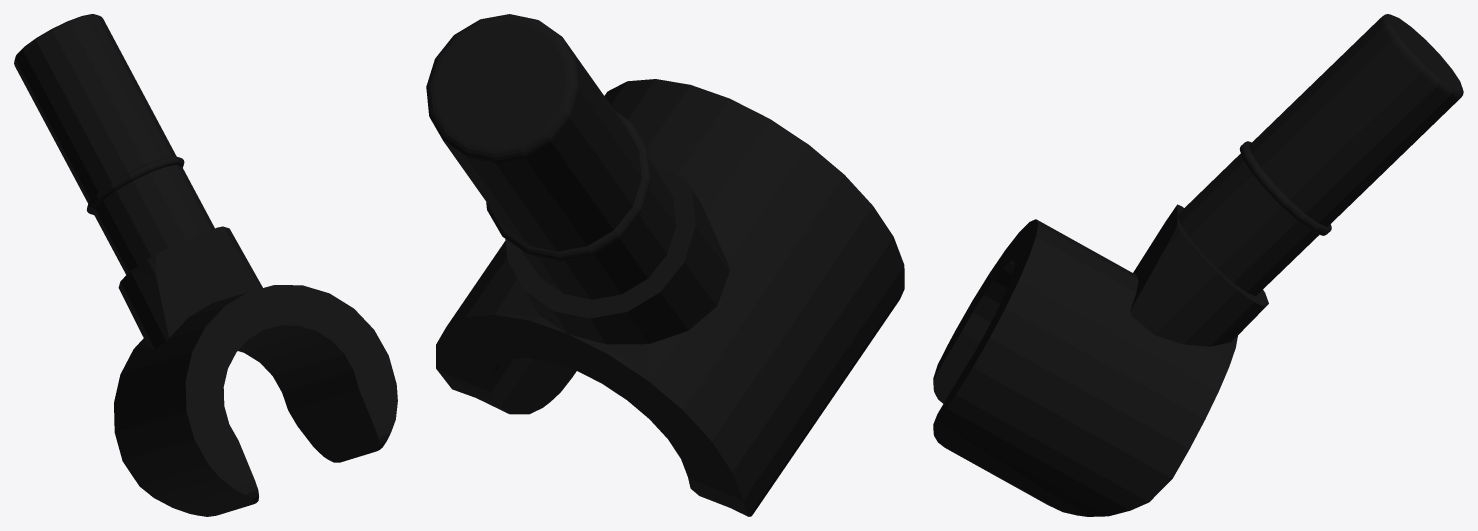
Rendered from BatmanManoI.obj.
3 renders of one model, left to right at view 1: azimuth 30°, elevation 25°; view 2: azimuth 150°, elevation 25°; view 3: azimuth 270°, elevation 25°, orthographic. The views are drawn at different scales.
Parts seen in each view (by area): view 1: Part_12; view 2: Part_12; view 3: Part_12.
Boxes of the visible parts, x1,y1,x2,y2 form: Part_12: (14, 14, 397, 516); Part_12: (426, 14, 904, 516); Part_12: (933, 14, 1463, 516).
Bounding box in the file's own units: 5.32 × 9.58 × 10.12.
